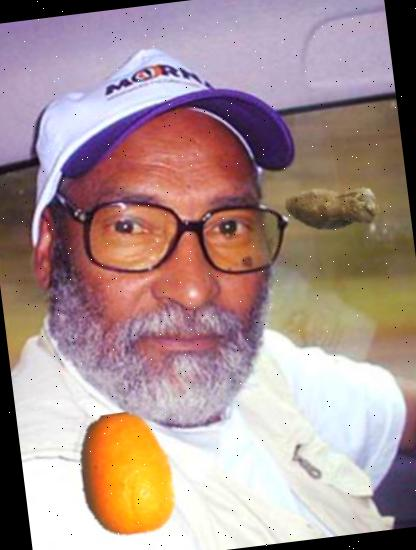Ginger: (278, 154, 386, 262)
Kumquats: (57, 406, 196, 544)
